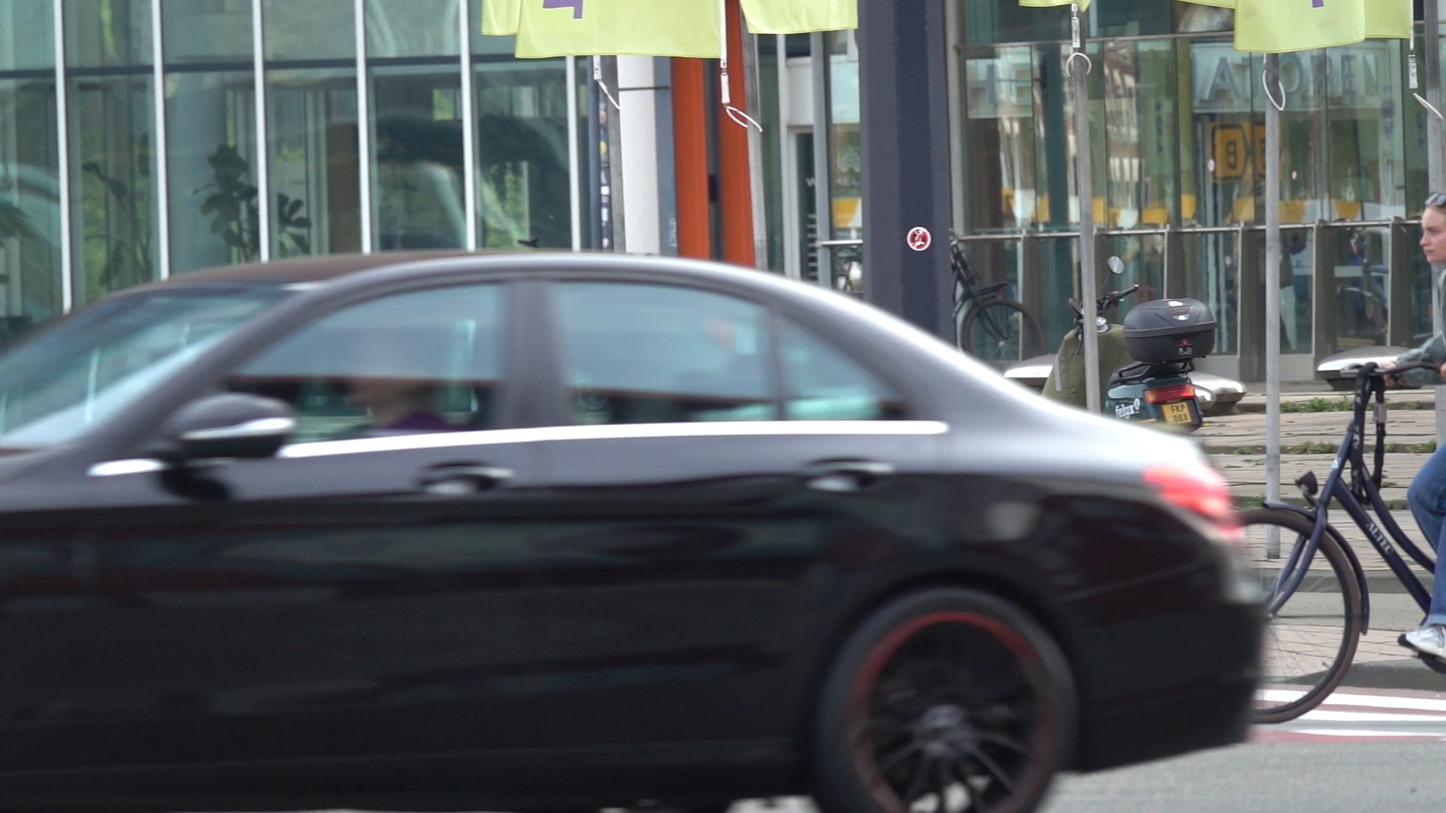car: (2, 244, 1267, 804)
